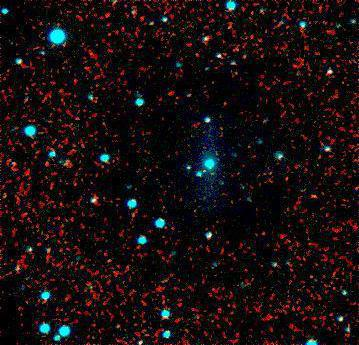star: (188, 160, 218, 190)
